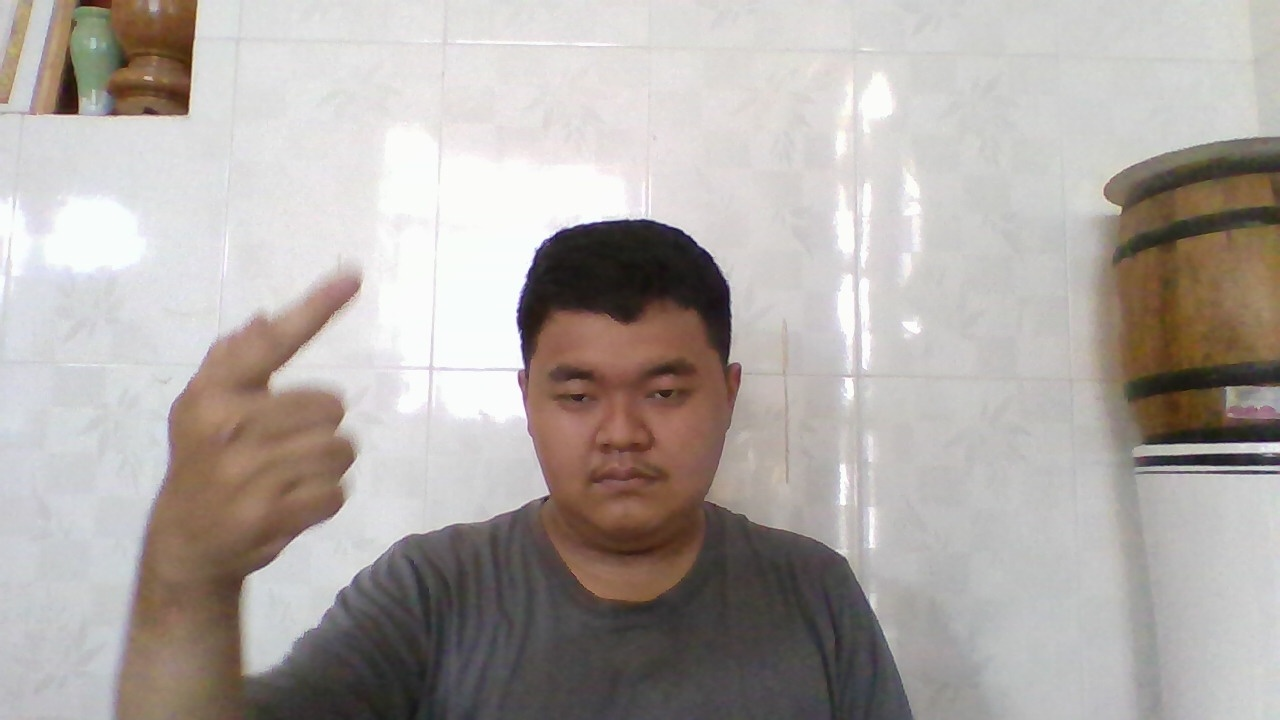G: (158, 267, 366, 559)
